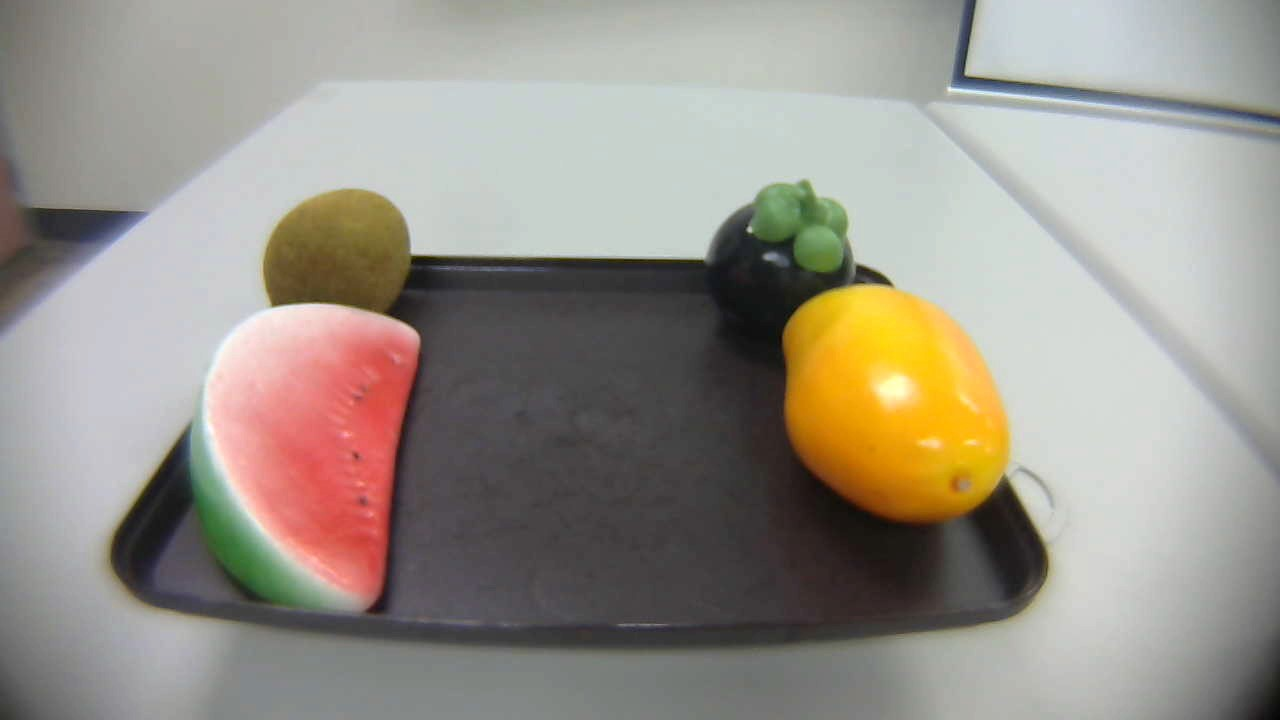kiwi fruit: (255, 179, 415, 317)
mangosteen: (702, 179, 863, 340)
water melon: (180, 296, 448, 618)
yellow mango: (772, 276, 1017, 533)
